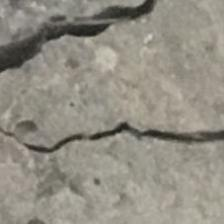Crack: (0, 1, 224, 161)
